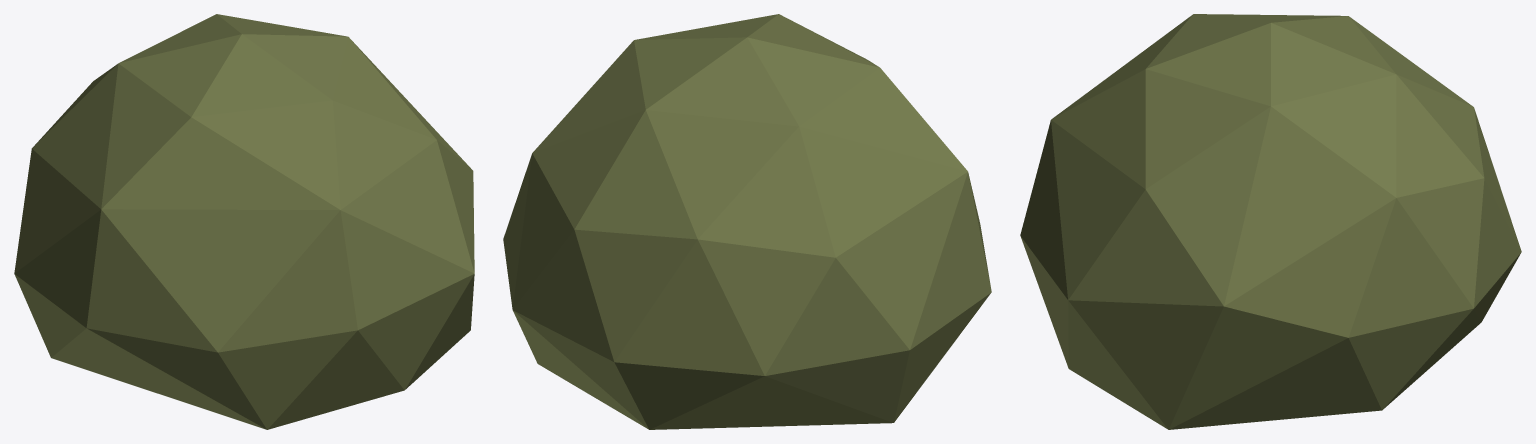
File: Bush_02.fbx
The picture shows the model from 3 angles, left to right: view 1: azimuth 30°, elevation 25°; view 2: azimuth 150°, elevation 25°; view 3: azimuth 270°, elevation 25°; orthographic projection. The views are drawn at different scales.
Visible parts, largest first — view 1: Bush_02a; view 2: Bush_02a; view 3: Bush_02a.
Part boxes in pixels (box(x1,y1,x2,y2)): Bush_02a: box(14, 14, 474, 429); Bush_02a: box(503, 14, 991, 429); Bush_02a: box(1020, 14, 1521, 429).
Bounding box in the file's own units: 117 × 85.15 × 122.
